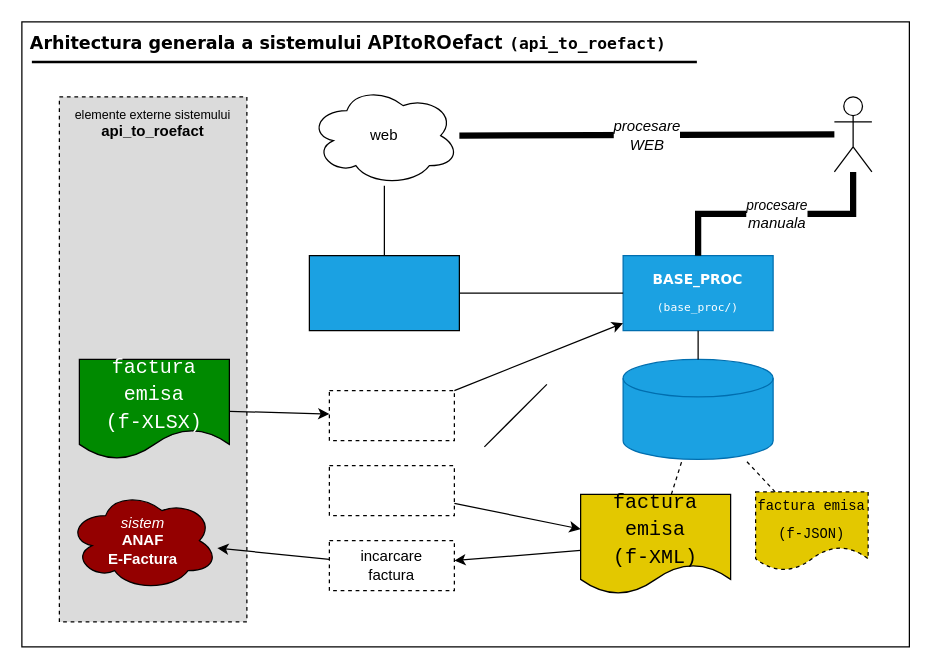
Some shapes in this 931 by 669 pixel diagram are drawn without their labels. Here are the shapes that lost their labels. From the top down, the centre of each, then its label:
At [852,134]: "client".
At [383,292]: "WEB_DASHB (web_dasb_app/)".
At [391,415]: "preluare factura".
At [697,408]: "SYSTEM_DB (data/)".
At [391,490]: "generare factura".
